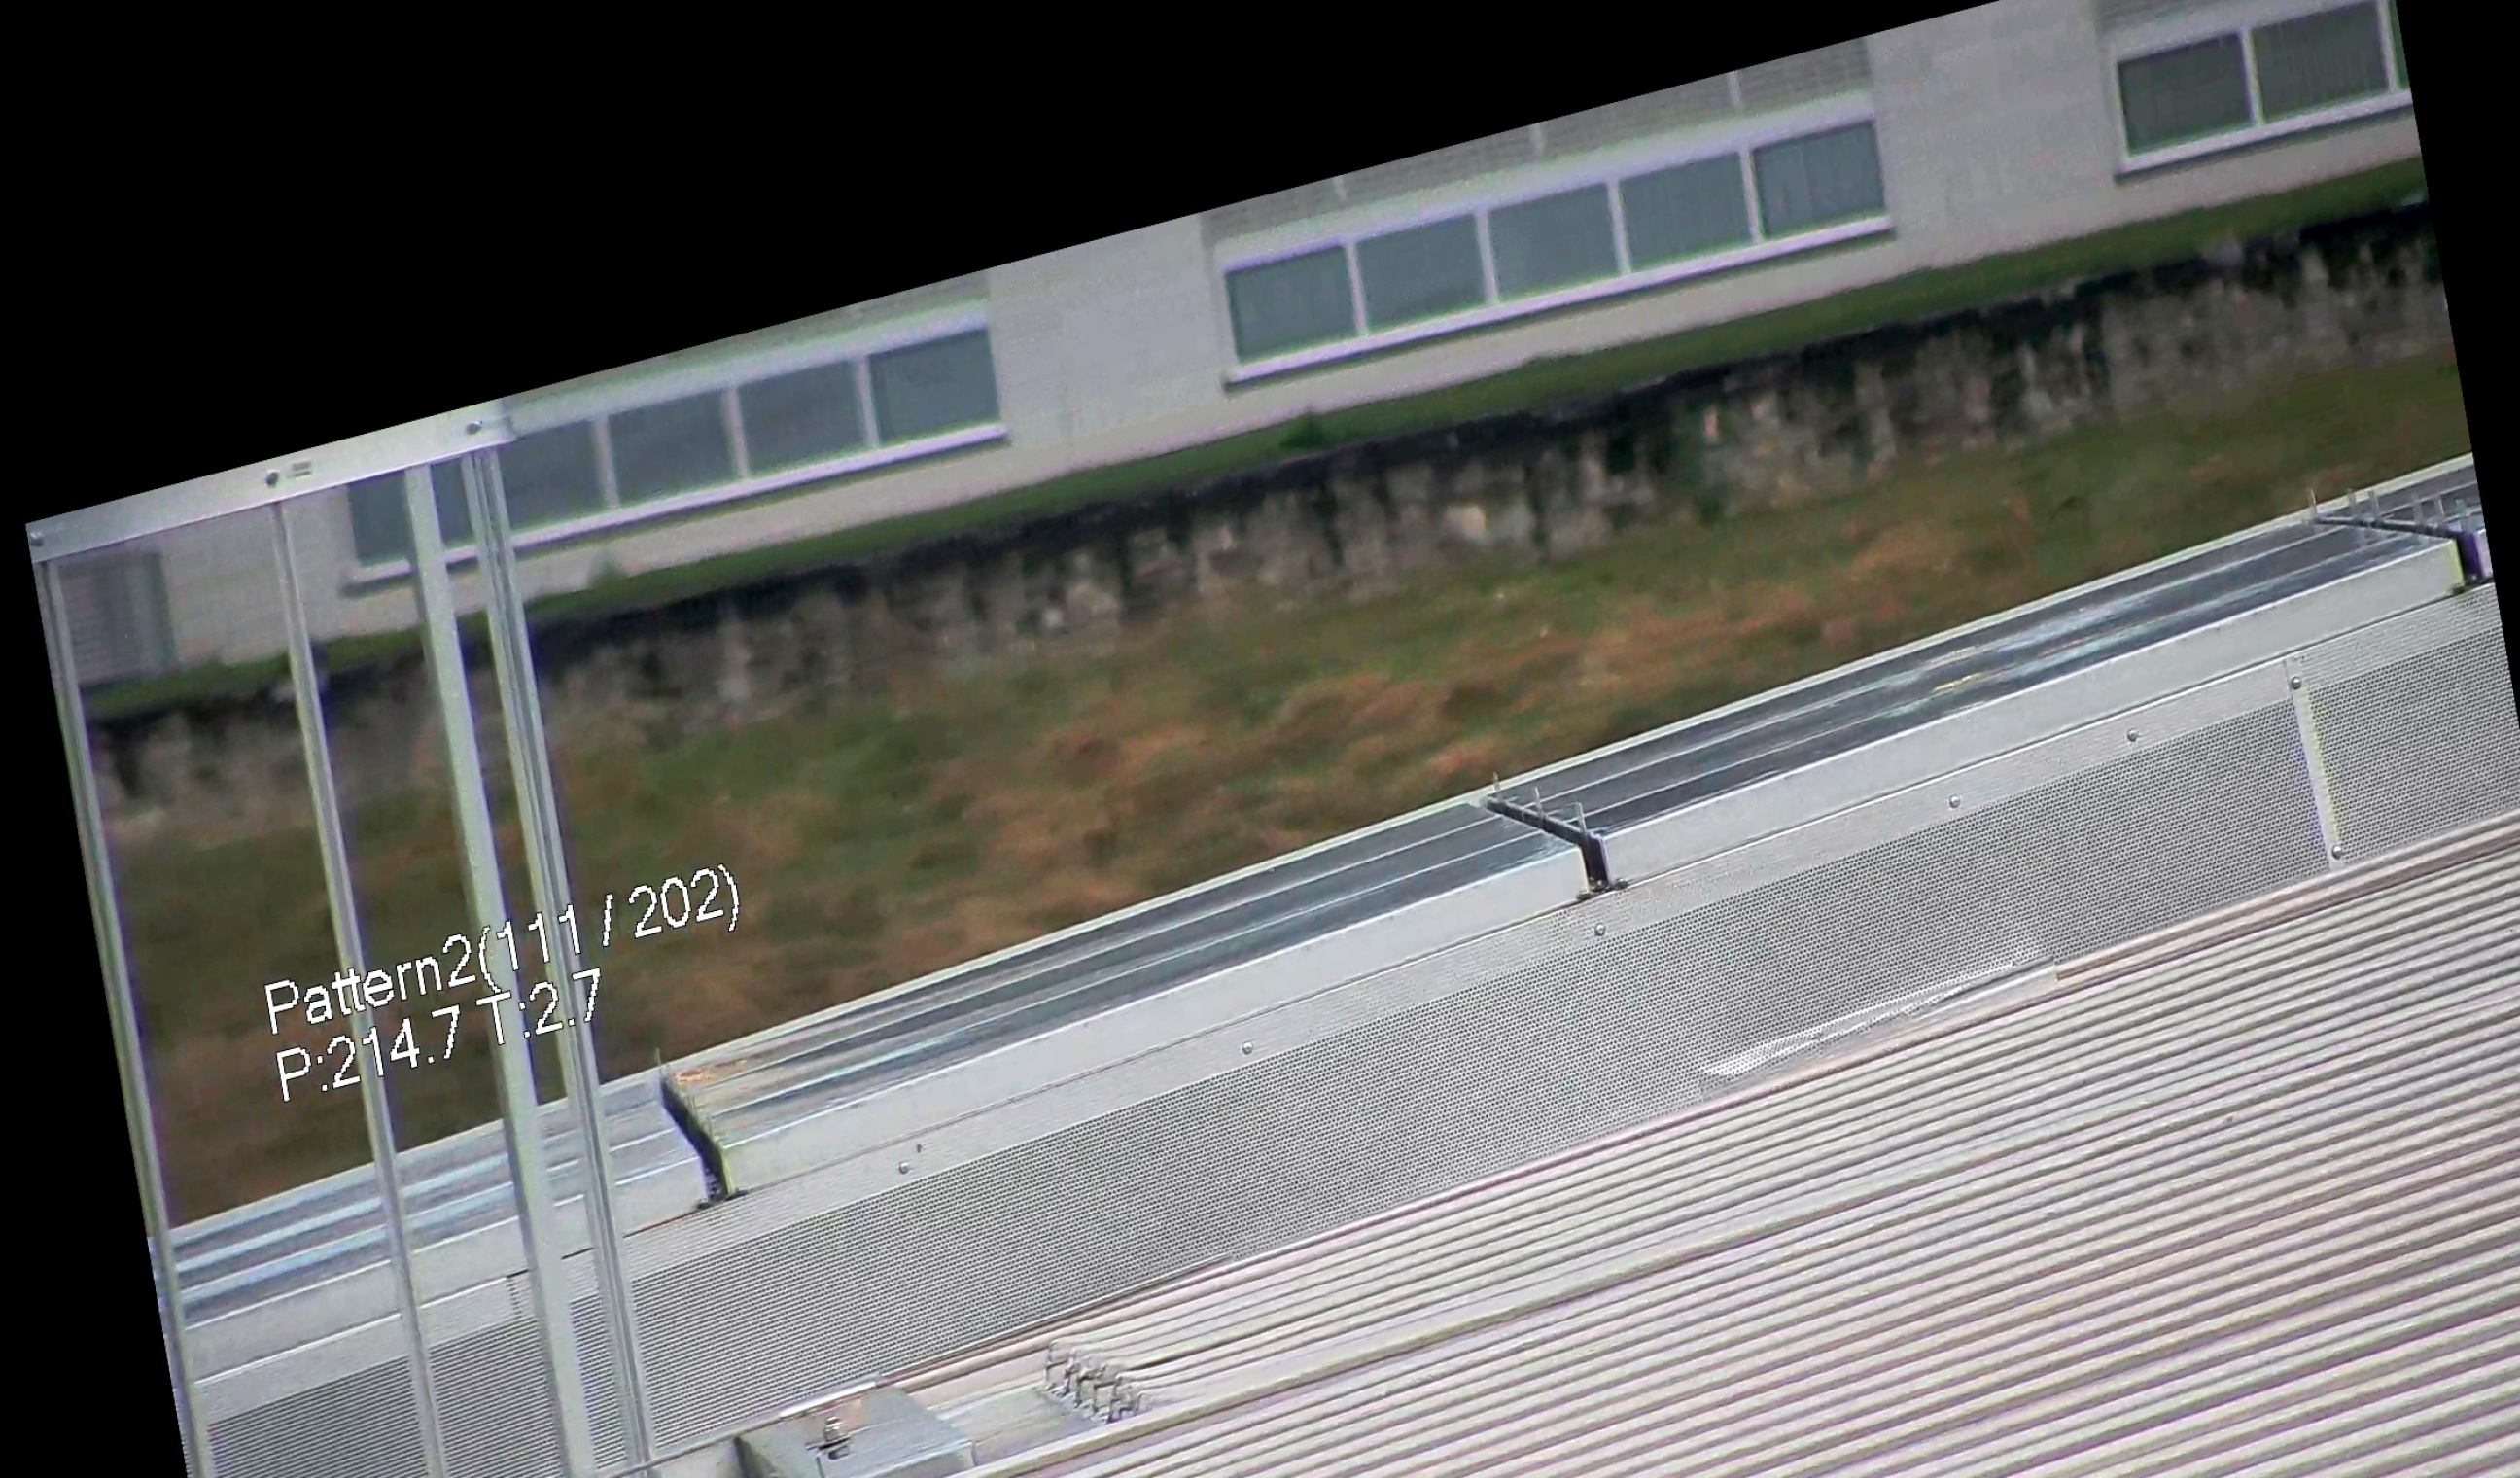Other: (638, 1040, 747, 1219)
